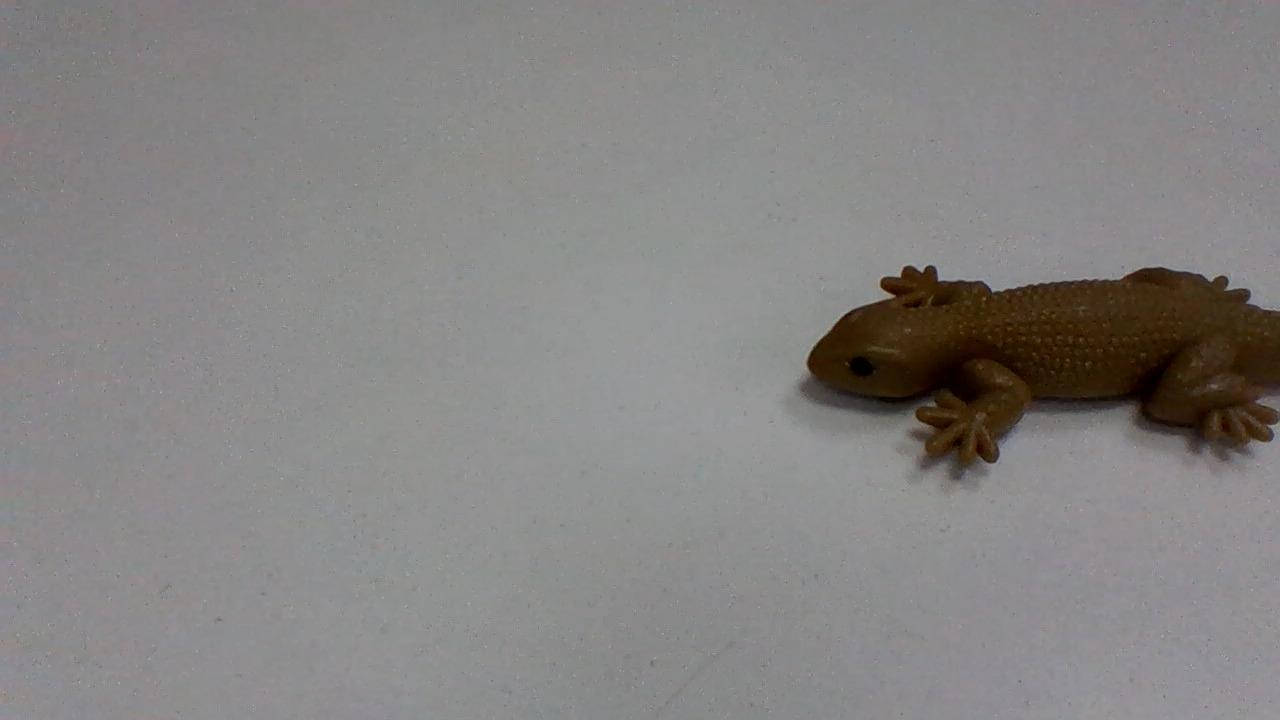lizard: (810, 255, 1280, 465)
